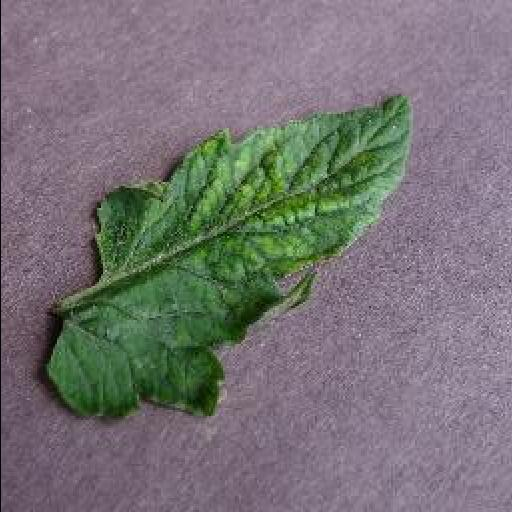disease_tomato: (44, 90, 414, 424)
